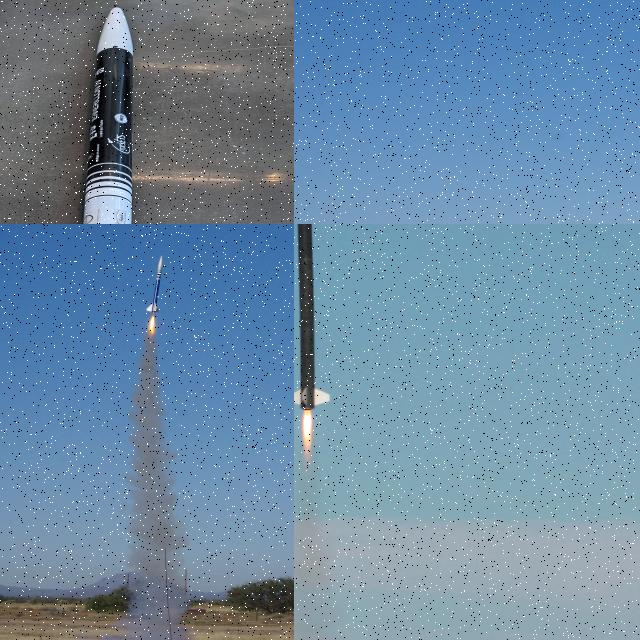Rocket: (82, 4, 134, 224), (294, 224, 331, 411), (146, 255, 163, 314)
